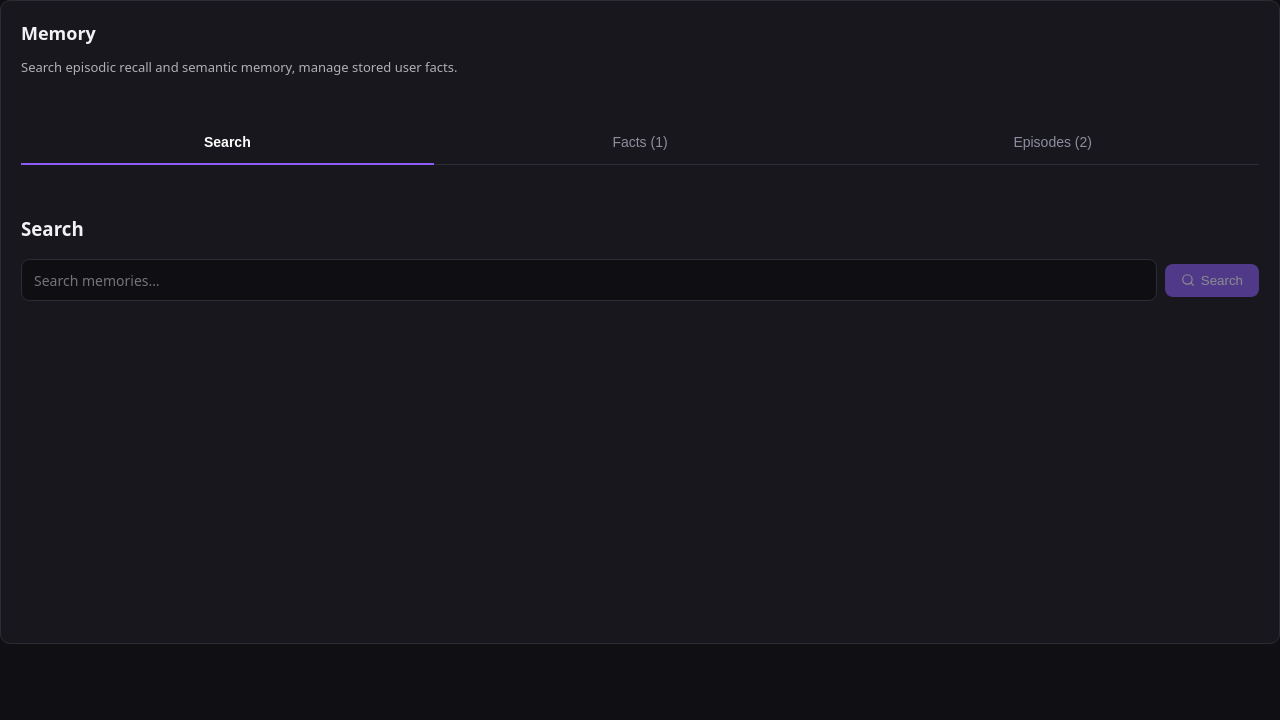
MemoryBrowser › starts Facts empty with idle hint and intact counts, fetching only tallies on tab entry
The width and height of the screenshot is (1280, 720).
Expected: the tab "Episodes (2)" is shown, [846,121,1259,165]
Click the tab "Facts (1)" at {"x": 640, "y": 143}, box [434,121,846,165]
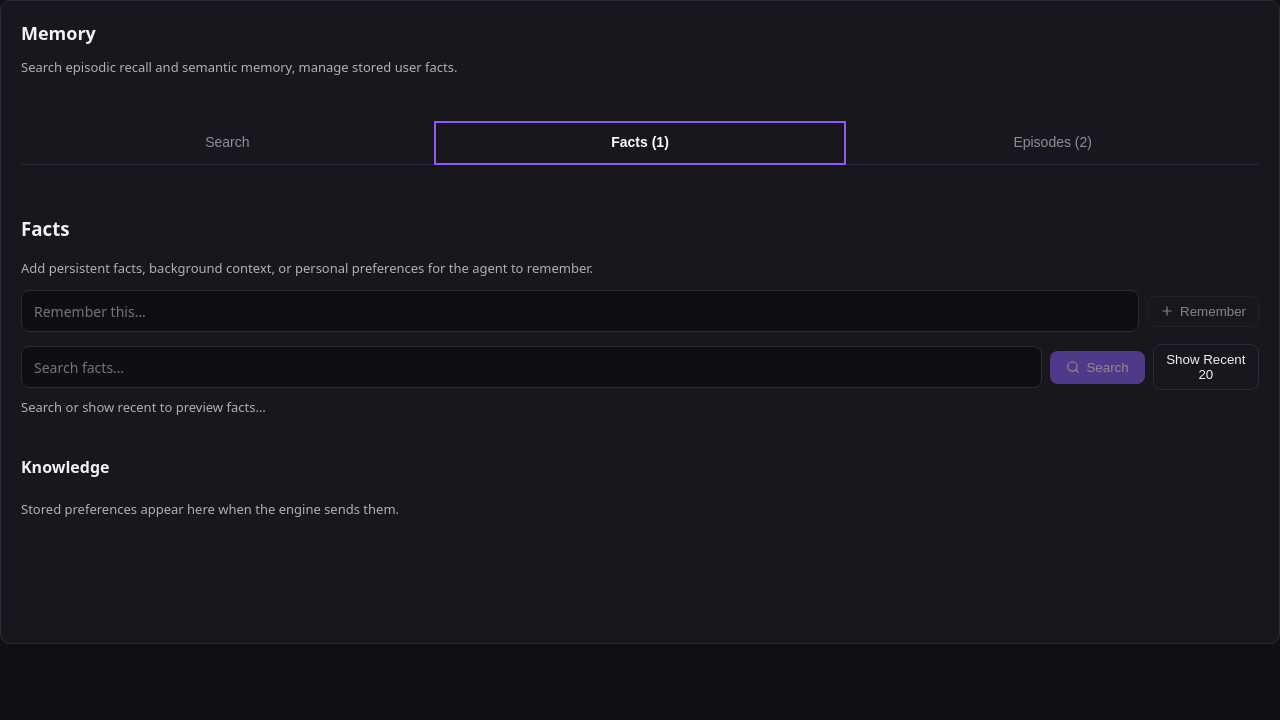
Now the heading "Facts" is shown, box [21,216,70,241]
Now the text "Search or show recent to preview facts…" is shown, box [21,398,266,416]
Now the button "Show Recent 20" is shown, box [1153,344,1259,390]
